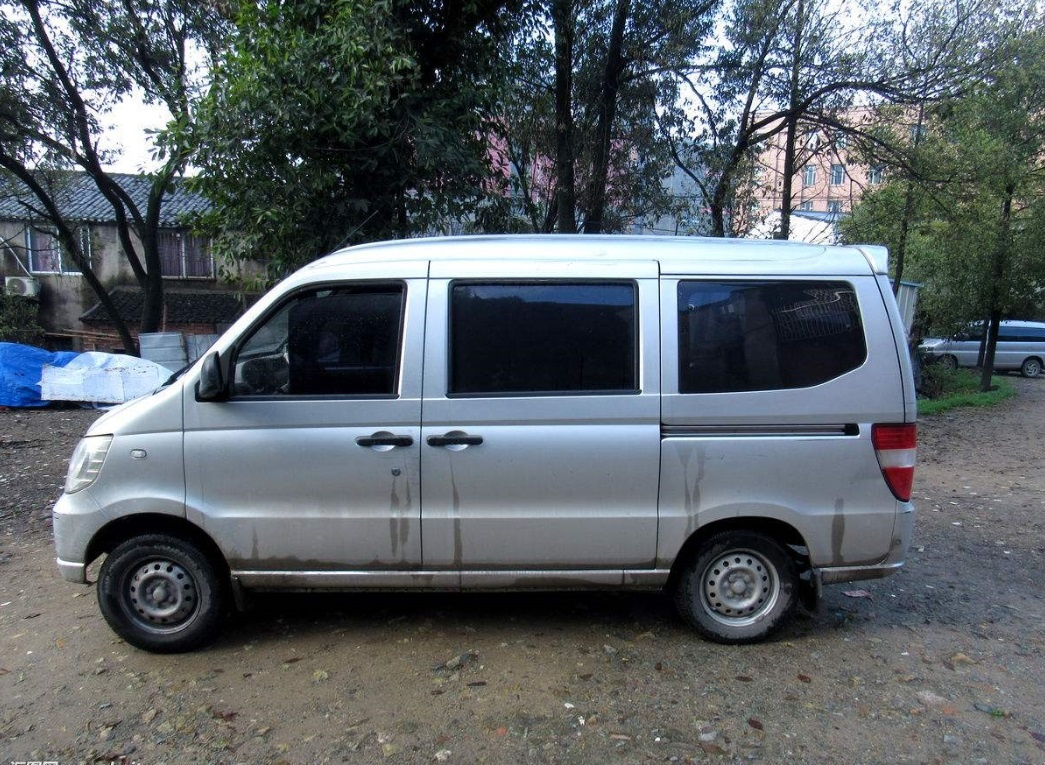minibus: (52, 225, 964, 674)
